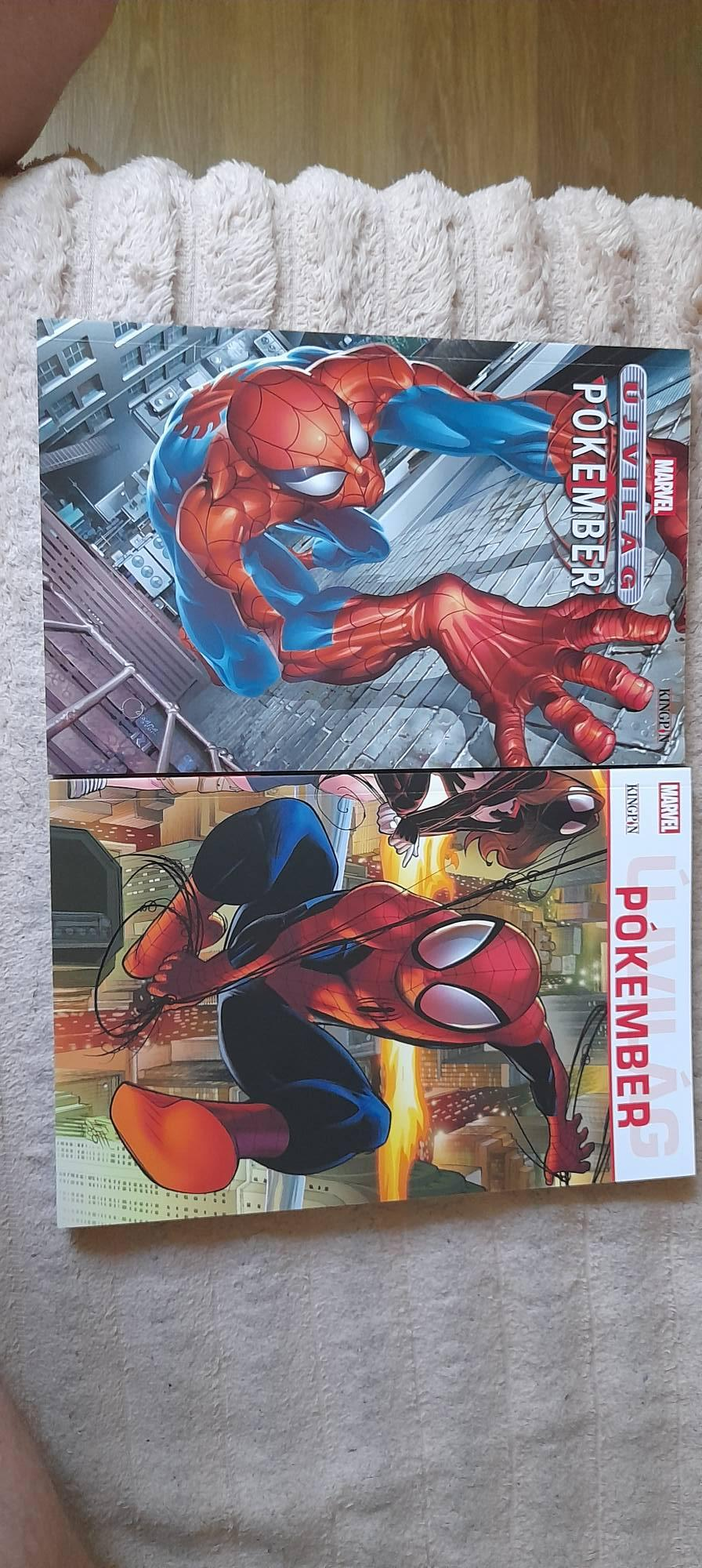comic: (31, 319, 690, 785), (48, 765, 697, 1225)
